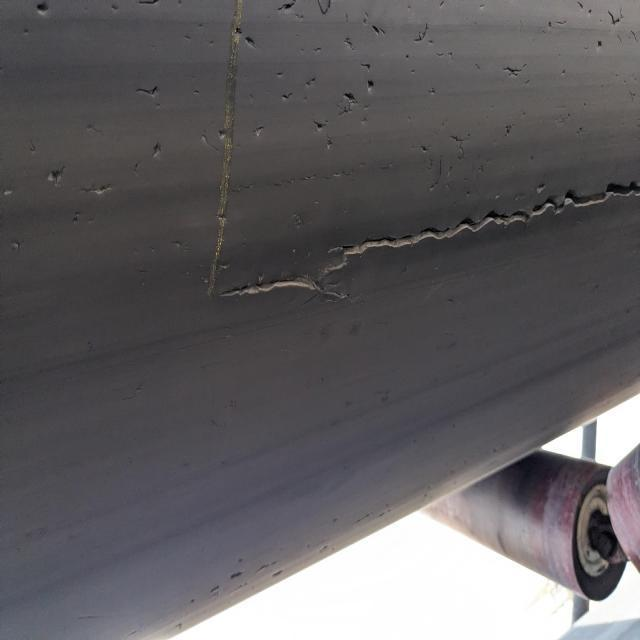Puncture: (43, 163, 67, 188), (148, 139, 166, 161), (32, 0, 52, 19), (362, 78, 385, 92), (341, 92, 361, 106), (212, 127, 232, 140), (312, 116, 328, 132), (591, 38, 608, 52), (532, 180, 549, 193), (229, 24, 243, 35), (244, 34, 254, 46)
Tear: (213, 170, 640, 304), (205, 1, 253, 294), (134, 78, 170, 99), (81, 180, 125, 197), (270, 0, 303, 18), (600, 7, 629, 27)
